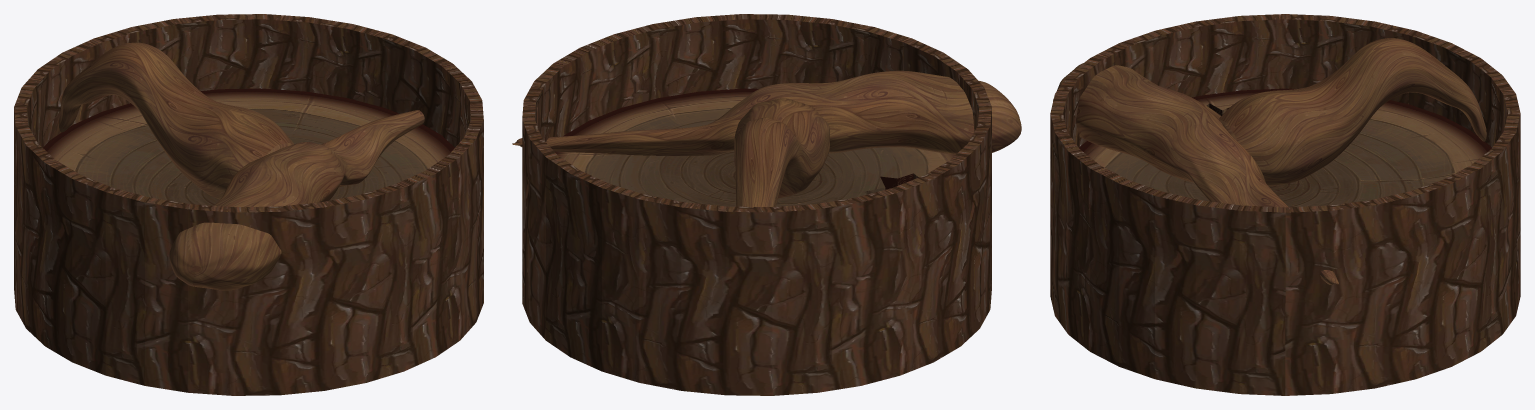
The model's file is level_1_final.fbx.
The picture shows the model from 3 angles, left to right: view 1: azimuth 30°, elevation 25°; view 2: azimuth 150°, elevation 25°; view 3: azimuth 270°, elevation 25°; orthographic projection.
Parts seen in each view (by area): view 1: Cylinder, Root.003; view 2: Cylinder, Root.003; view 3: Cylinder, Root.003.
Part boxes in pixels (x1,y1,x2,y2): Cylinder: (14,14,483,395); Root.003: (59,42,424,290); Cylinder: (522,14,991,395); Root.003: (512,70,1021,206); Cylinder: (1050,14,1520,395); Root.003: (1053,38,1486,284).
Size of the model in its own units: 10348 by 5338 by 10000.
